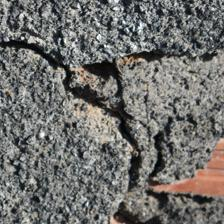Crack: (2, 18, 143, 203)
